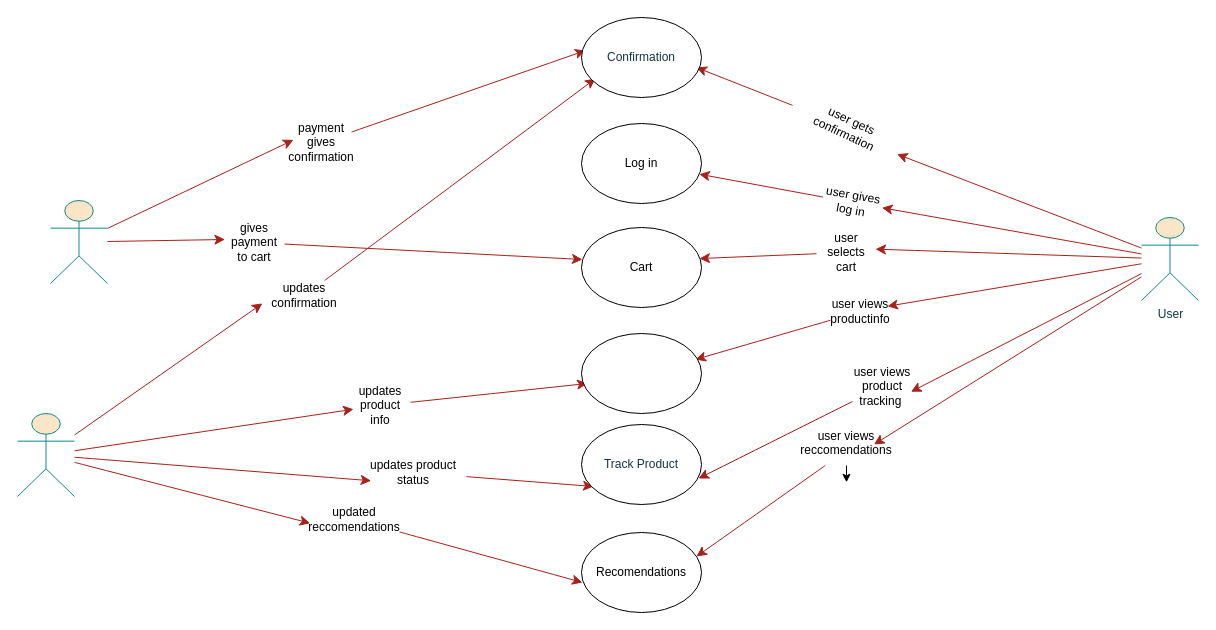
The diagram is 1216 pixels wide and 630 high, and some of its shapes have lost their labels. The shapes that lost their labels are listed below. From the top down, each one's centre as x and y in pixels, then its label:
At point (79, 242): "Payment".
At point (641, 373): "Product Info".
At point (45, 454): "Admin".
